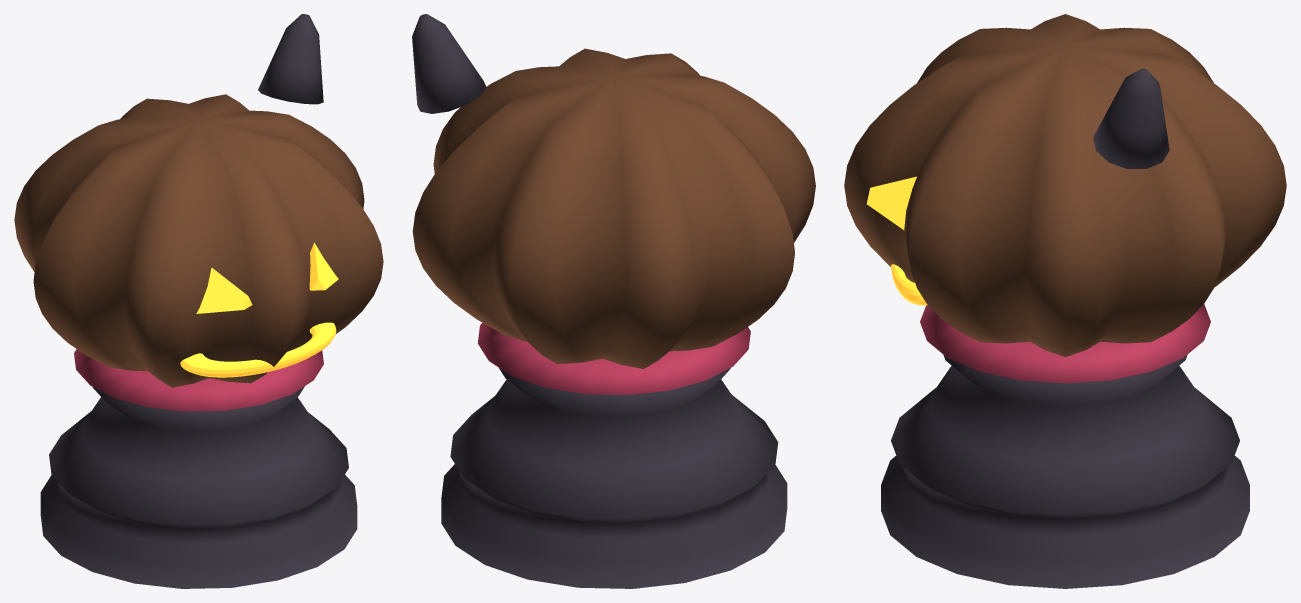
File: pawn_b.glb
3 views of the same model, side by side, from view 1: azimuth 30°, elevation 25°; view 2: azimuth 150°, elevation 25°; view 3: azimuth 270°, elevation 25° (orthographic). The views are drawn at different scales.
Visible parts, largest first — view 1: Pawn_Pump, Pawn_Base, Pawn_Collar, Pawn_Stem, Hình Xuyến.019, Hình Nón.116, Hình Nón.117; view 2: Pawn_Pump, Pawn_Base, Pawn_Collar, Pawn_Stem; view 3: Pawn_Pump, Pawn_Base, Pawn_Collar, Pawn_Stem, Hình Nón.117, Hình Xuyến.019.
Boxes of the visible parts, bbox=[...] form: Pawn_Pump: bbox=[14, 94, 383, 387]; Pawn_Base: bbox=[40, 386, 357, 588]; Pawn_Collar: bbox=[74, 349, 323, 411]; Pawn_Stem: bbox=[258, 14, 323, 104]; Hình Xuyến.019: bbox=[180, 322, 336, 377]; Hình Nón.116: bbox=[196, 267, 252, 313]; Hình Nón.117: bbox=[309, 242, 338, 290]; Pawn_Pump: bbox=[412, 48, 815, 368]; Pawn_Base: bbox=[441, 368, 787, 588]; Pawn_Collar: bbox=[477, 323, 750, 395]; Pawn_Stem: bbox=[412, 14, 486, 113]; Pawn_Pump: bbox=[844, 14, 1286, 356]; Pawn_Base: bbox=[881, 355, 1249, 588]; Pawn_Collar: bbox=[920, 304, 1210, 383]; Pawn_Stem: bbox=[1093, 68, 1169, 168]; Hình Nón.117: bbox=[866, 176, 916, 229]; Hình Xuyến.019: bbox=[891, 264, 927, 305].
Size of the model in its own units: 0.456 by 0.5912 by 0.456.
